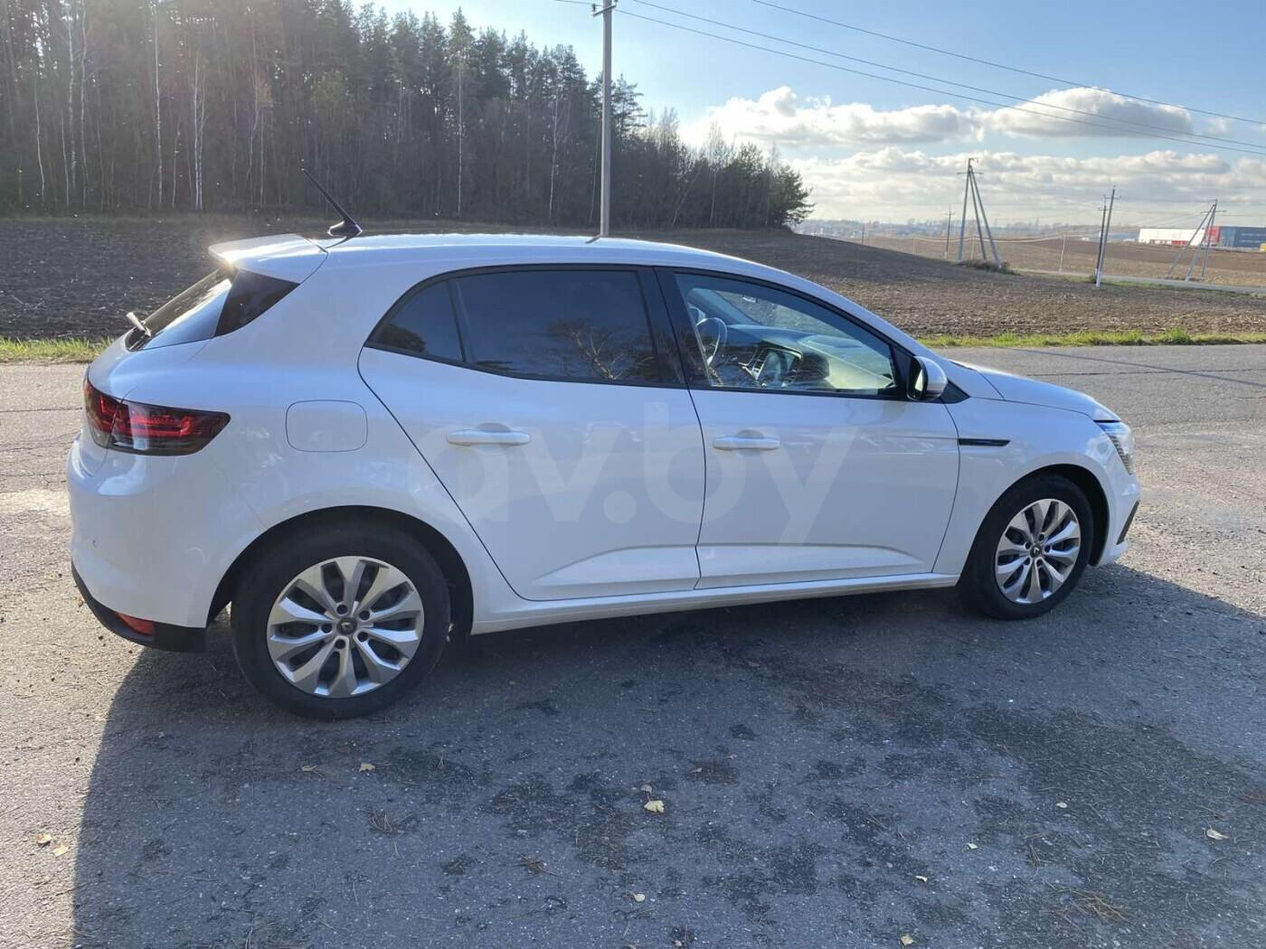Megane_2020: (62, 227, 1141, 713)
